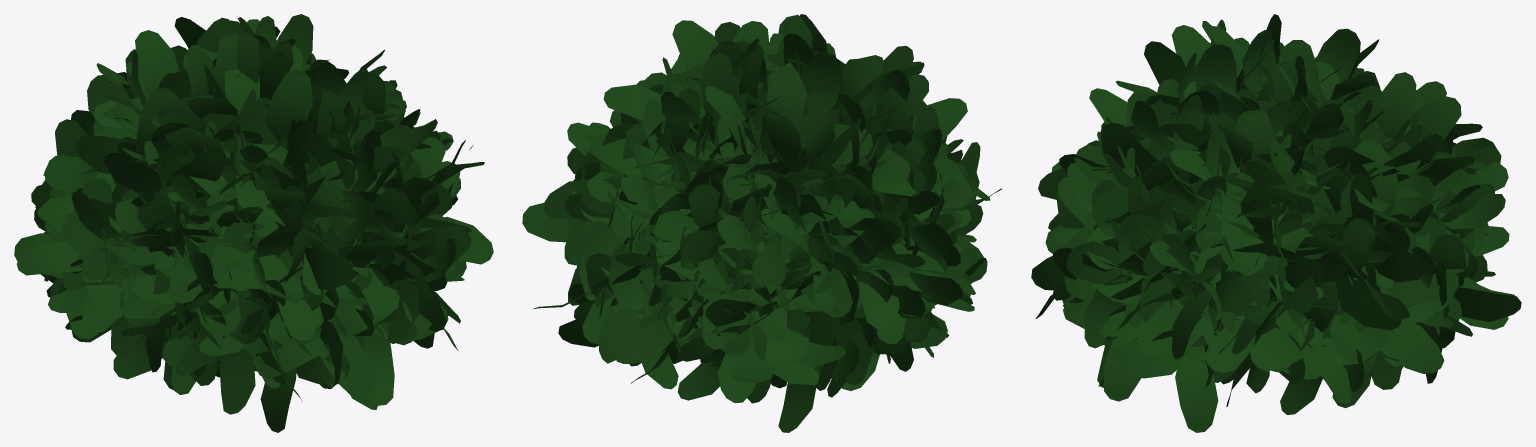
The model's file is Arbusto_4.fbx.
3 views of the same model, side by side, from view 1: azimuth 30°, elevation 25°; view 2: azimuth 150°, elevation 25°; view 3: azimuth 270°, elevation 25° (orthographic).
Parts seen in each view (by area): view 1: Sphere|Hoja.001|Dupli|129, Sphere|Hoja.001|Dupli|240, Sphere|Hoja.001|Dupli|47, Sphere|Hoja.001|Dupli|314, Sphere|Hoja.001|Dupli|264, Sphere|Hoja.001|Dupli|309, Sphere|Hoja.001|Dupli|318, Sphere|Hoja.001|Dupli|41, Sphere|Hoja.001|Dupli|366, Sphere|Hoja.001|Dupli|199, Sphere|Hoja.001|Dupli|74, Sphere|Hoja.001|Dupli|64 (+88 smaller); view 2: Sphere|Hoja.001|Dupli|372, Sphere|Hoja.001|Dupli|434, Sphere|Hoja.001|Dupli|270, Sphere|Hoja.001|Dupli|350, Sphere|Hoja.001|Dupli|309, Sphere|Hoja.001|Dupli|163, Sphere|Hoja.001|Dupli|168, Sphere|Hoja.001|Dupli|54, Sphere|Hoja.001|Dupli|165, Sphere|Hoja.001|Dupli|147, Sphere|Hoja.001|Dupli|412, Sphere|Hoja.001|Dupli|306 (+97 smaller); view 3: Sphere|Hoja.001|Dupli|245, Sphere|Hoja.001|Dupli|393, Sphere|Hoja.001|Dupli|459, Sphere|Hoja.001|Dupli|253, Sphere|Hoja.001|Dupli|74, Sphere|Hoja.001|Dupli|372, Sphere|Hoja.001|Dupli|426, Sphere|Hoja.001|Dupli|44, Sphere|Hoja.001|Dupli|467, Sphere|Hoja.001|Dupli|216, Sphere|Hoja.001|Dupli|13, Sphere|Hoja.001|Dupli|194 (+86 smaller).
Boxes of the visible parts, box(x1,y1,x2,y2) form: Sphere|Hoja.001|Dupli|129: box(255, 286, 399, 398); Sphere|Hoja.001|Dupli|240: box(201, 69, 355, 171); Sphere|Hoja.001|Dupli|47: box(104, 149, 227, 207); Sphere|Hoja.001|Dupli|314: box(162, 311, 291, 414); Sphere|Hoja.001|Dupli|264: box(16, 241, 128, 319); Sphere|Hoja.001|Dupli|309: box(93, 30, 178, 136); Sphere|Hoja.001|Dupli|318: box(387, 214, 456, 343); Sphere|Hoja.001|Dupli|41: box(260, 343, 349, 432); Sphere|Hoja.001|Dupli|366: box(274, 184, 352, 290); Sphere|Hoja.001|Dupli|199: box(75, 87, 177, 174); Sphere|Hoja.001|Dupli|74: box(380, 185, 471, 331); Sphere|Hoja.001|Dupli|64: box(213, 268, 352, 340); Sphere|Hoja.001|Dupli|372: box(598, 243, 678, 389); Sphere|Hoja.001|Dupli|434: box(605, 298, 707, 363); Sphere|Hoja.001|Dupli|270: box(738, 52, 888, 147); Sphere|Hoja.001|Dupli|350: box(714, 67, 872, 165); Sphere|Hoja.001|Dupli|309: box(728, 110, 850, 196); Sphere|Hoja.001|Dupli|163: box(870, 74, 928, 196); Sphere|Hoja.001|Dupli|168: box(588, 134, 654, 238); Sphere|Hoja.001|Dupli|54: box(704, 86, 753, 200); Sphere|Hoja.001|Dupli|165: box(790, 106, 873, 194); Sphere|Hoja.001|Dupli|147: box(778, 339, 859, 432); Sphere|Hoja.001|Dupli|412: box(664, 52, 801, 149); Sphere|Hoja.001|Dupli|306: box(582, 220, 686, 344); Sphere|Hoja.001|Dupli|245: box(1111, 333, 1218, 432); Sphere|Hoja.001|Dupli|393: box(1324, 269, 1458, 373); Sphere|Hoja.001|Dupli|459: box(1304, 218, 1401, 331); Sphere|Hoja.001|Dupli|253: box(1250, 306, 1351, 403); Sphere|Hoja.001|Dupli|74: box(1066, 237, 1135, 348); Sphere|Hoja.001|Dupli|372: box(1428, 234, 1521, 348); Sphere|Hoja.001|Dupli|426: box(1063, 297, 1206, 401); Sphere|Hoja.001|Dupli|44: box(1172, 242, 1253, 359); Sphere|Hoja.001|Dupli|467: box(1346, 172, 1423, 284); Sphere|Hoja.001|Dupli|216: box(1240, 181, 1326, 301); Sphere|Hoja.001|Dupli|13: box(1091, 274, 1219, 356); Sphere|Hoja.001|Dupli|194: box(1195, 129, 1254, 251).
Bounding box in the file's own units: 942 × 732 × 964.
